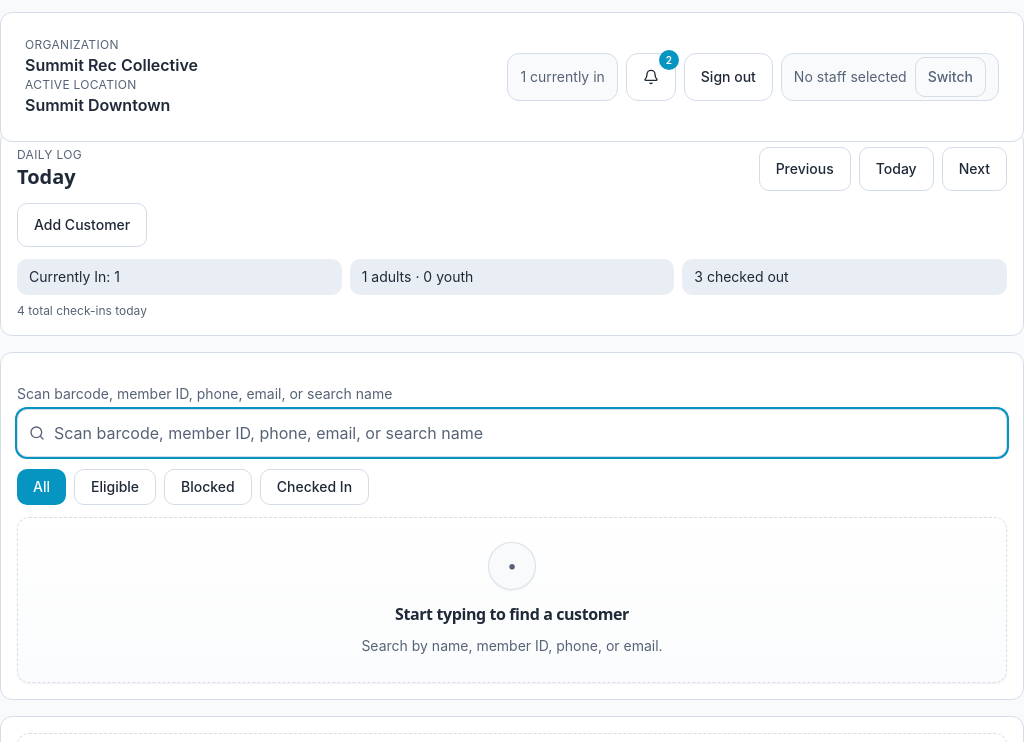
Scenario: CheckInList date behavior › selected customers expose household and waiver quick actions
Click the button "Switch" at (950, 77), box [915,57,986,97]
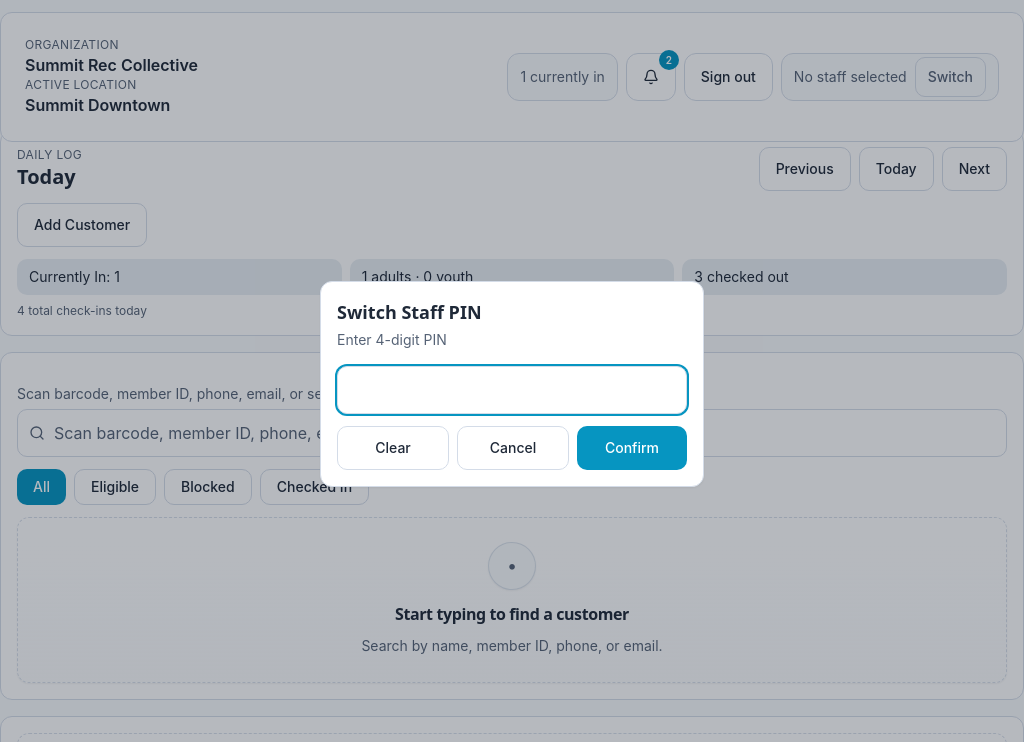
Type "1111" into the password field named "Staff PIN input" at (512, 390), box [337,366,687,414]
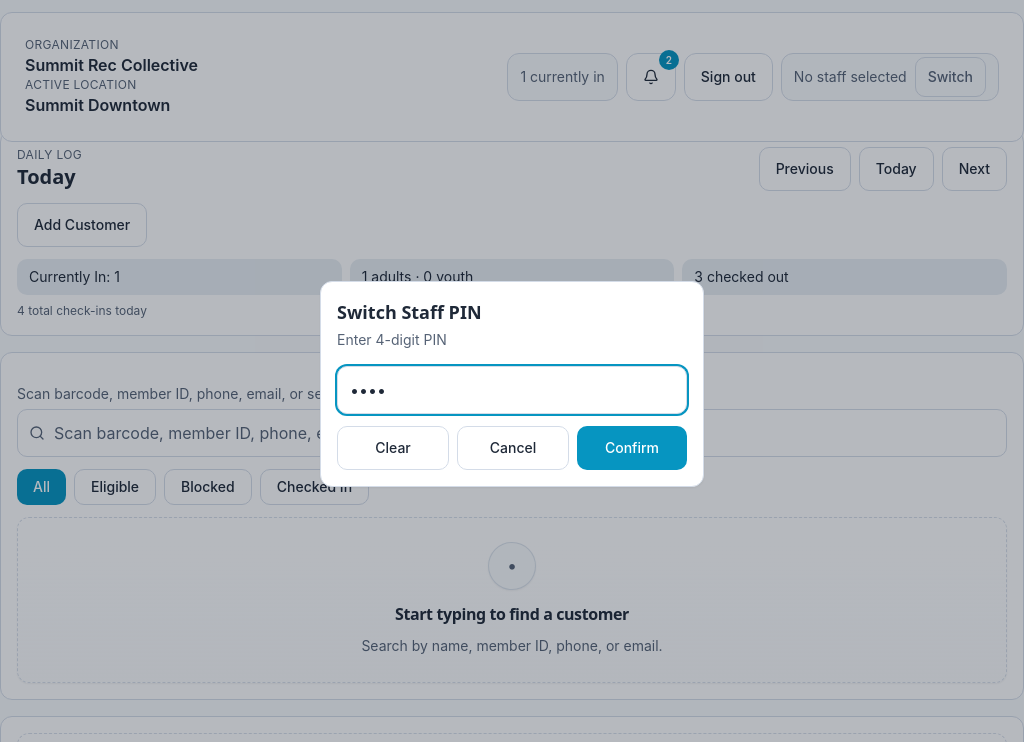
Click the button "Confirm" at (632, 448), box [577,426,687,470]
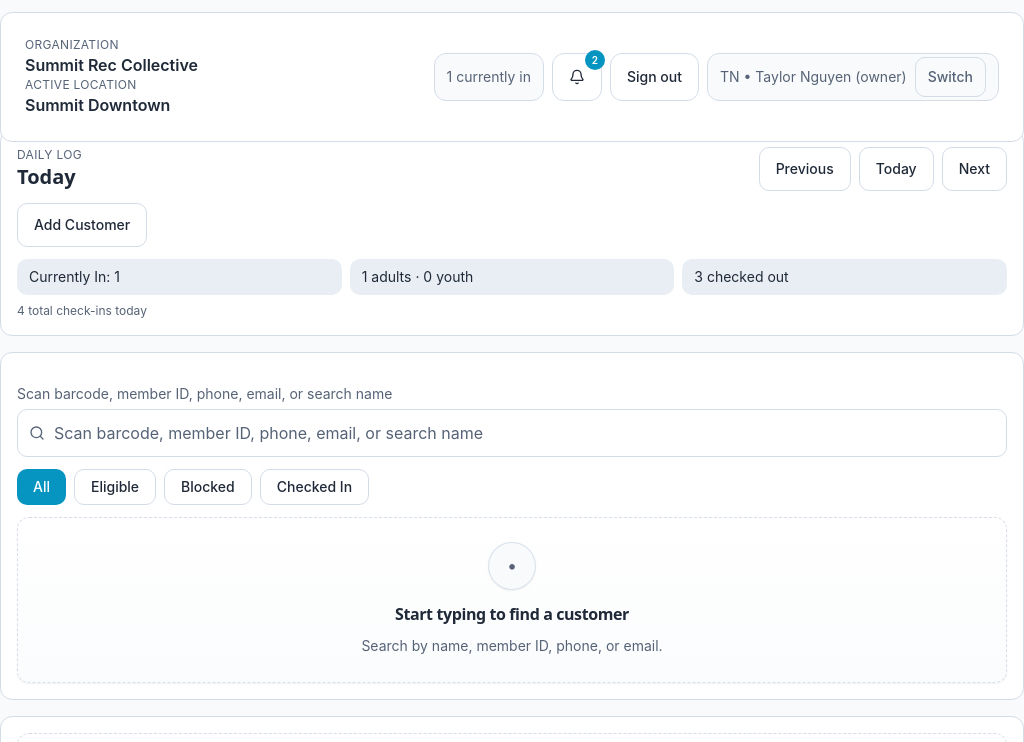
Type "Alex" into the field labelled "Scan barcode, member ID, phone, email, or search name" at (512, 433), box [17,409,1007,457]
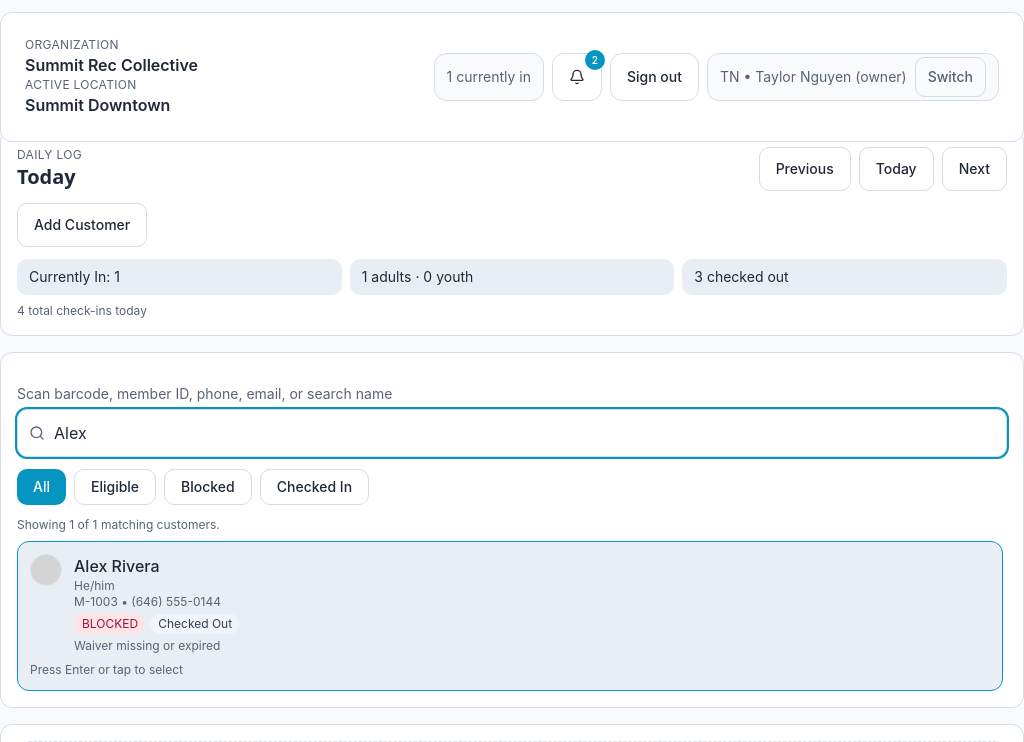
Press Enter
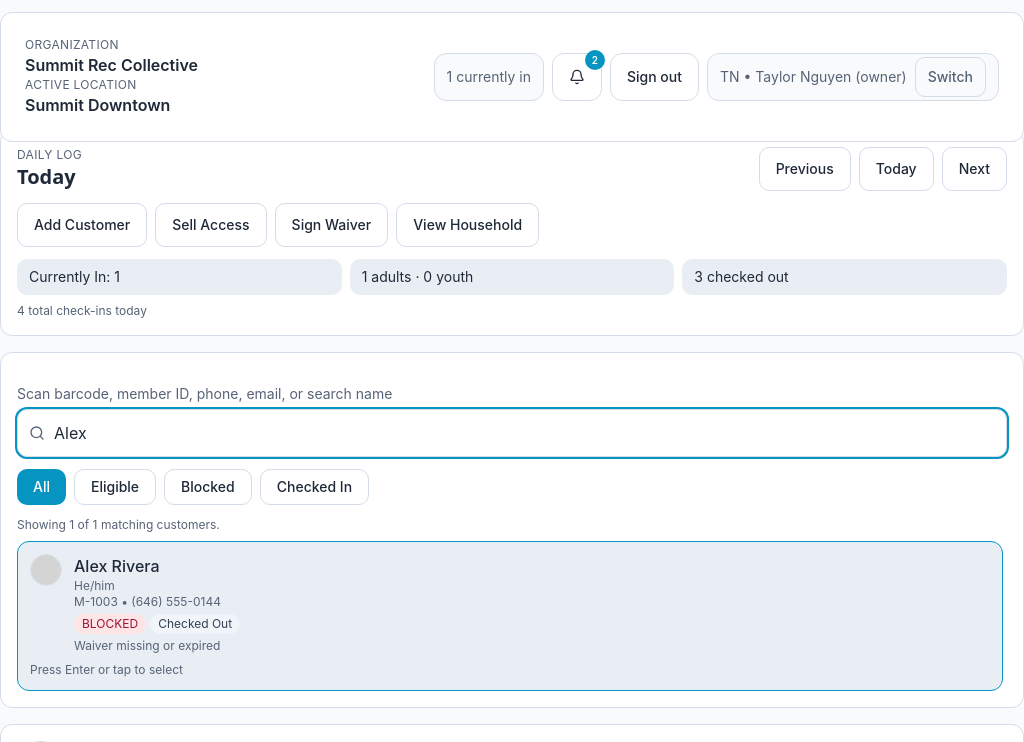
Now the button "Sign Waiver" is shown, box [275,203,388,247]
